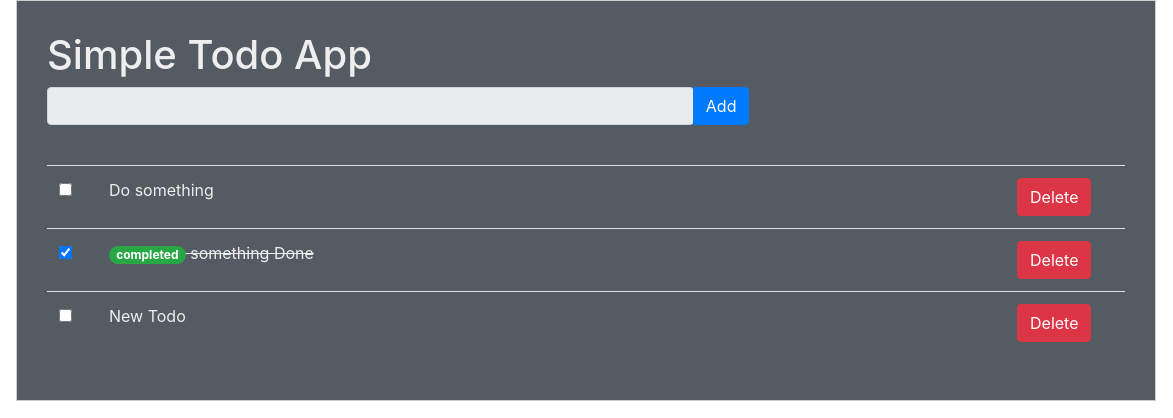
Scenario: Todo User Stories all in single spec file › User can remove a to-do item by pressing on a button
Click the button "Delete" in the row of "New Todo" at coordinates (1055, 323), box [1017,304,1092,342]
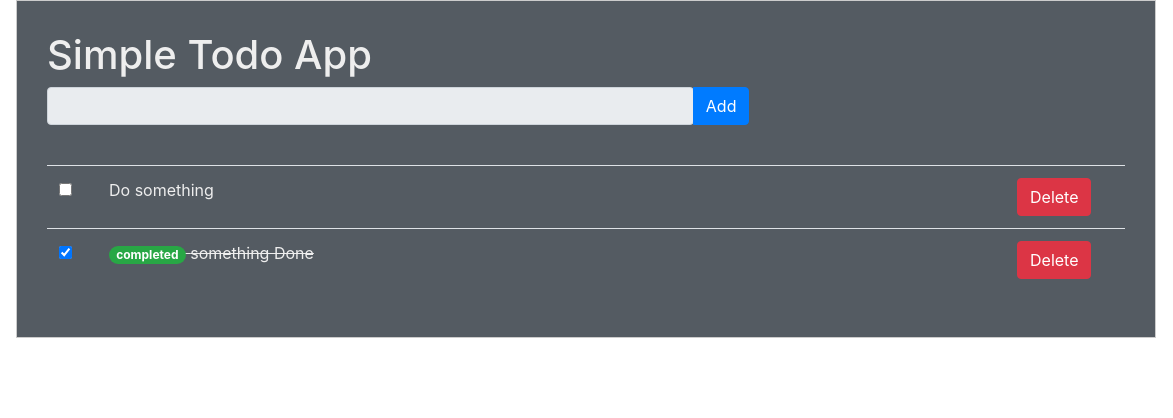
expect the text "New Todo" is gone: met
